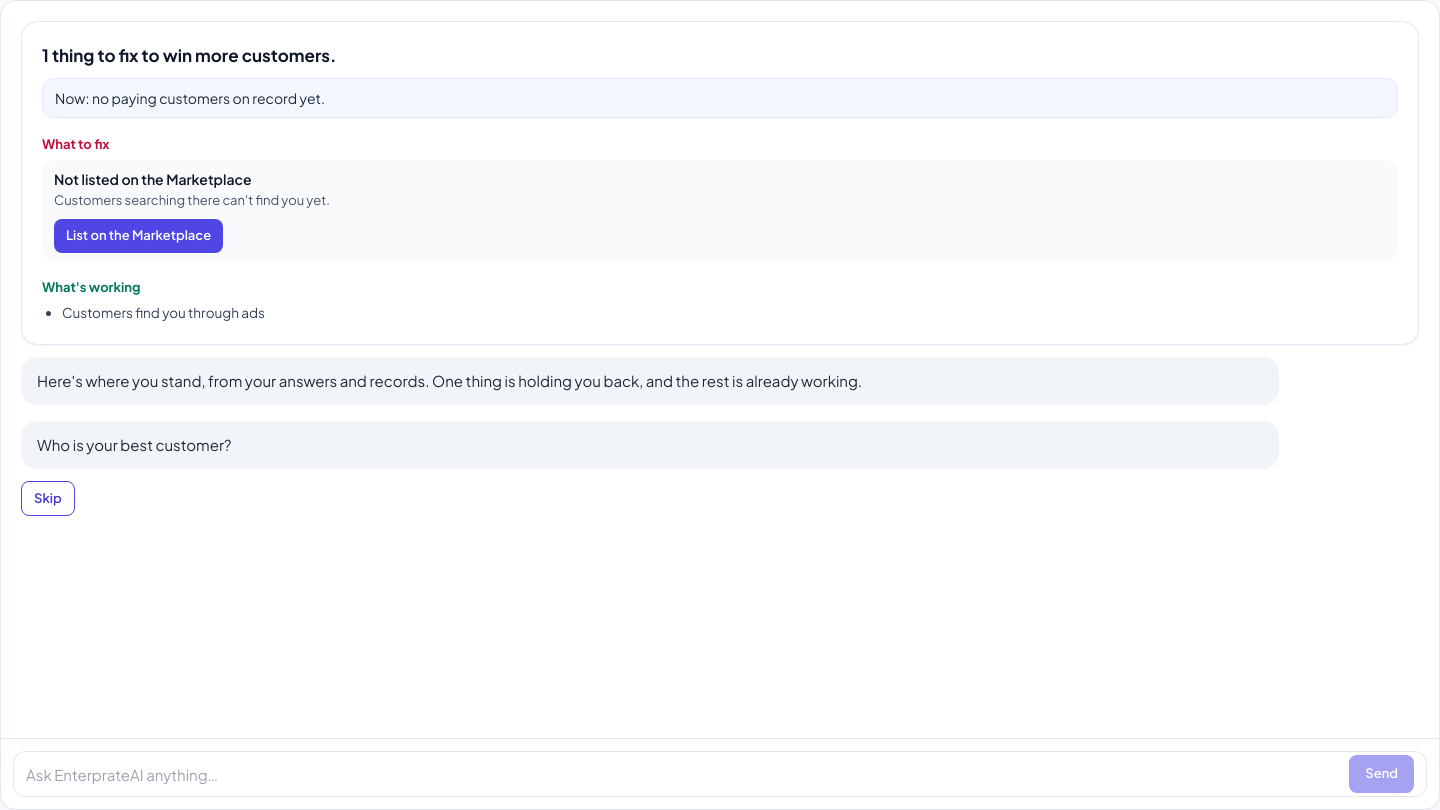
Test: talks the check through: where it stands, each missing detail asked in turn and saved, then the next step (the owner, 1 Nov)
Check: the element that starts with "1 thing to fix to win more customers." is shown, box [42,44,336,66]
Check: the element that starts with "1 thing to fix to win more customers." shows "Now: no paying customers on record yet.", box [55,89,325,107]
In the field named "Message": (684, 774) [26,752,1341,796], type "office managers in Abuja"
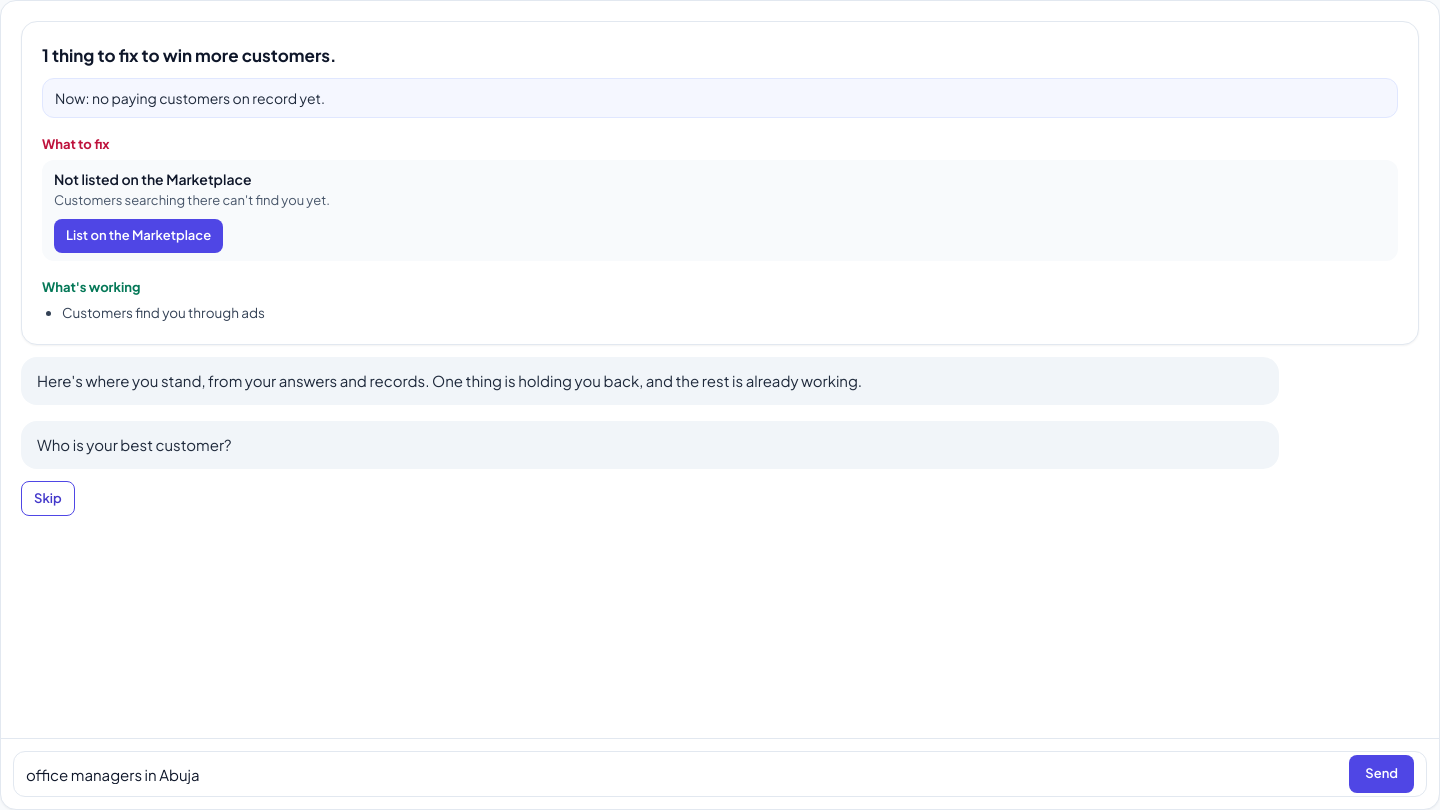
Click the button "Send": (1382, 774) [1349,755,1414,792]
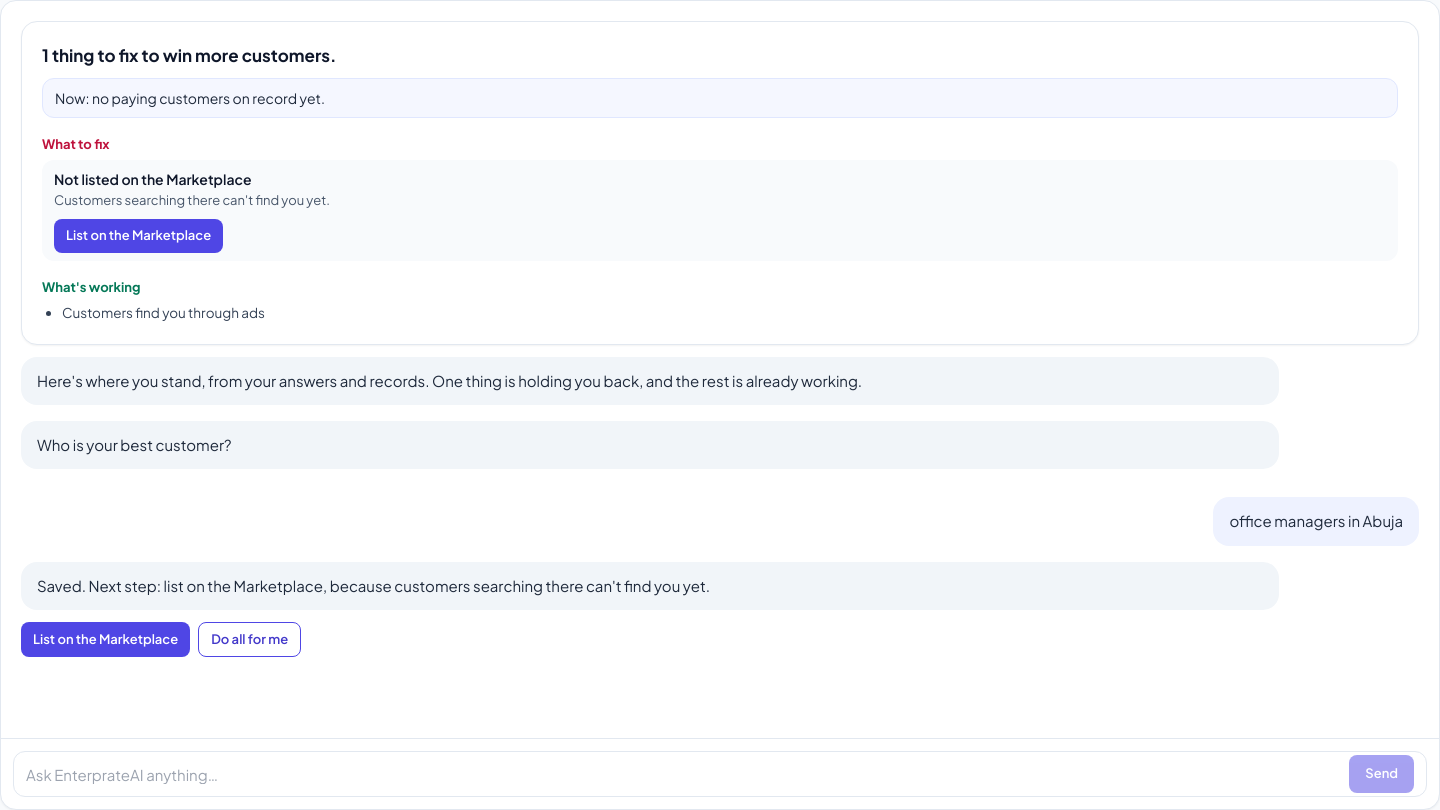
Check: the button "List on the Marketplace" below "Not listed on the Marketplace" is shown, box [54,219,223,252]
Check: the text "Saved. Next step: list on the Marketplace, because customers searching there can't find you yet." is shown, box [37,576,710,595]
Check: the button "Do all for me" is shown, box [198,622,301,657]
